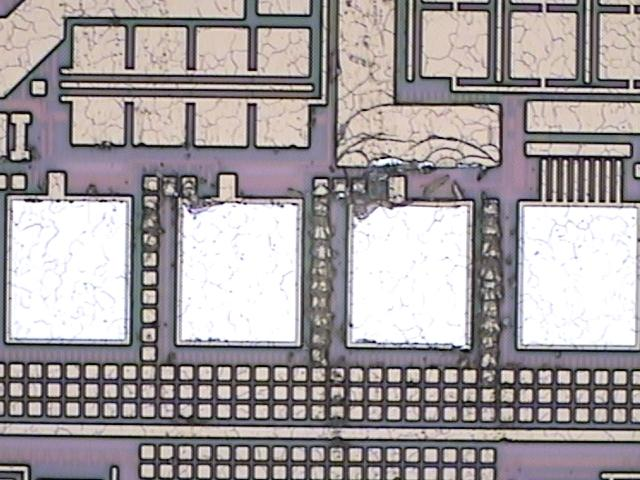SCRATCH: (132, 151, 519, 480)
